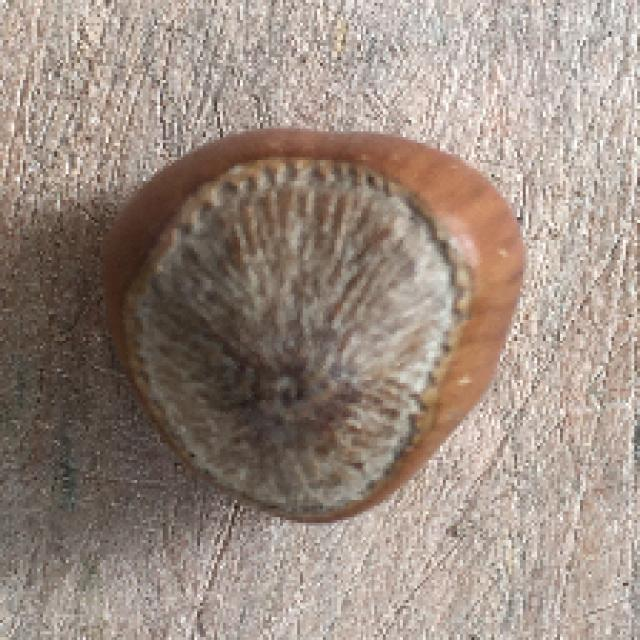damagedHazelnut: (77, 116, 538, 533)
